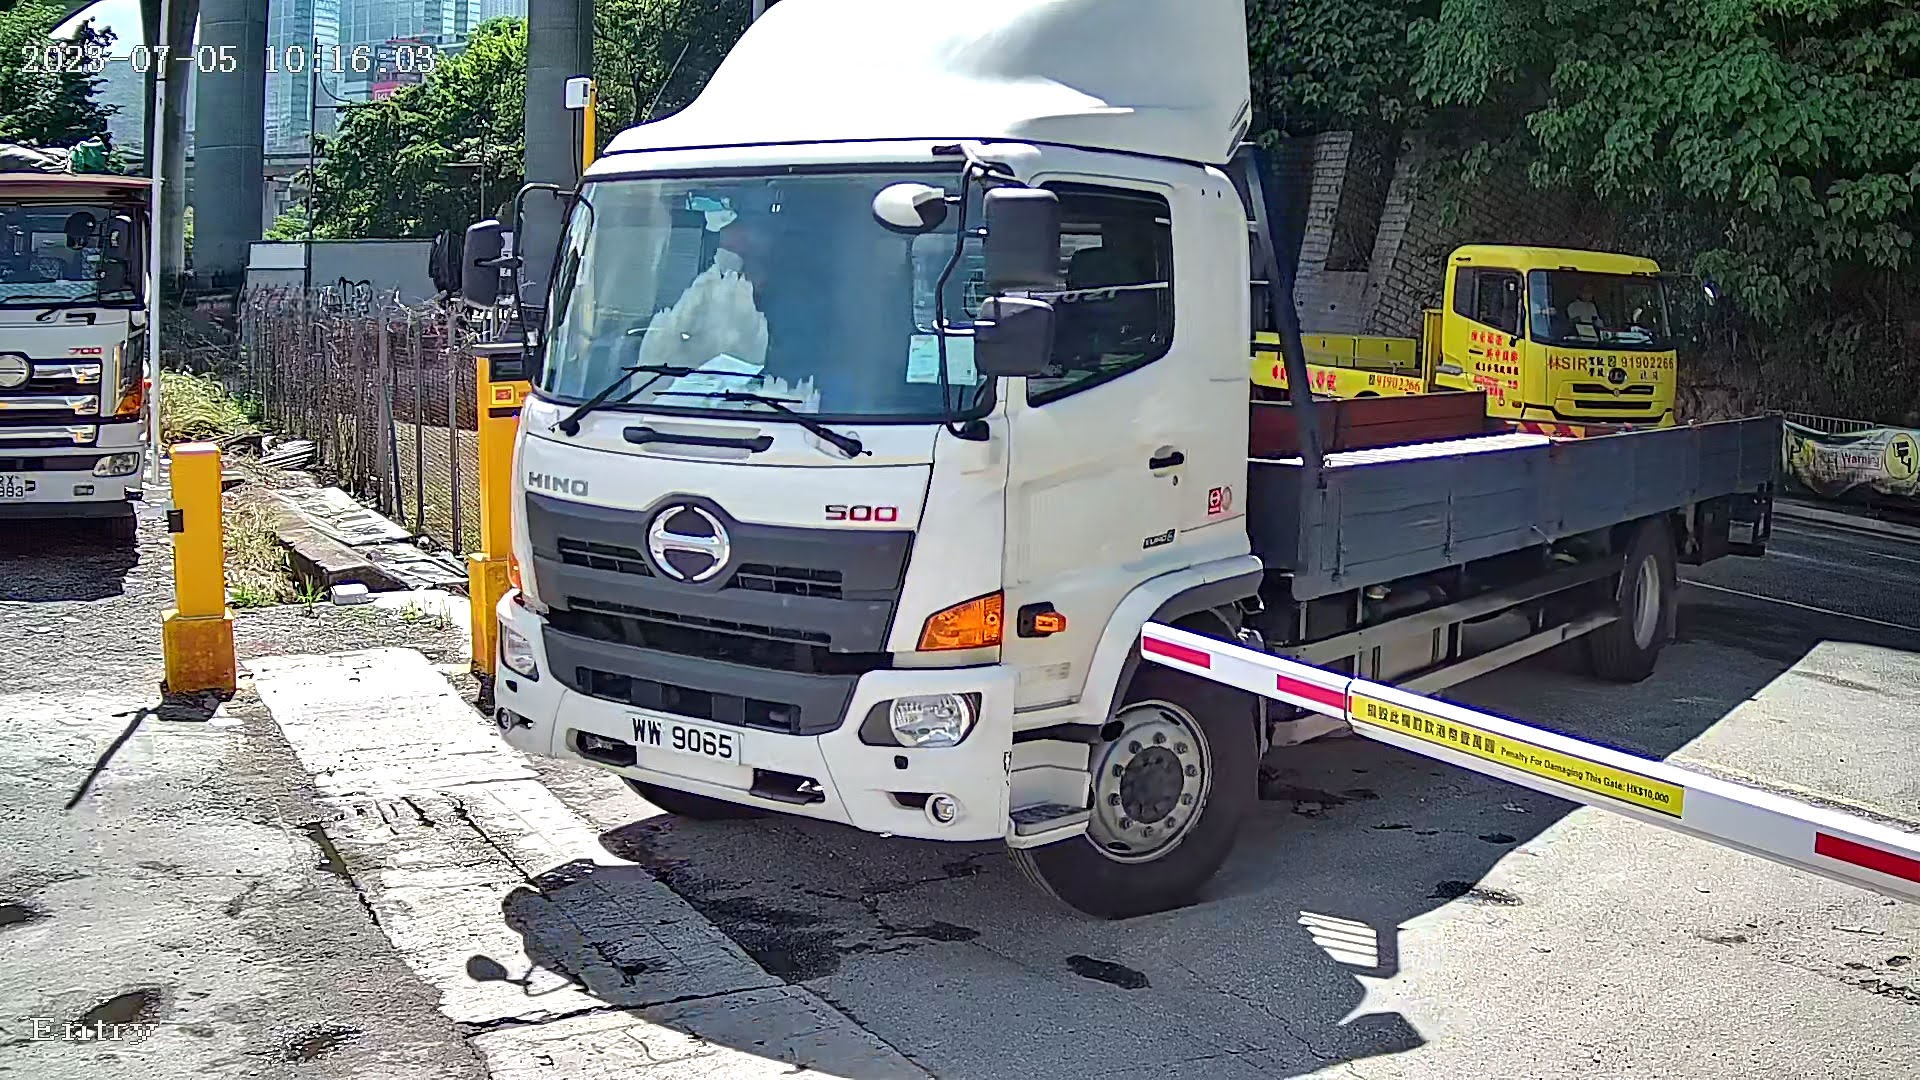truck: (447, 1, 1738, 893)
